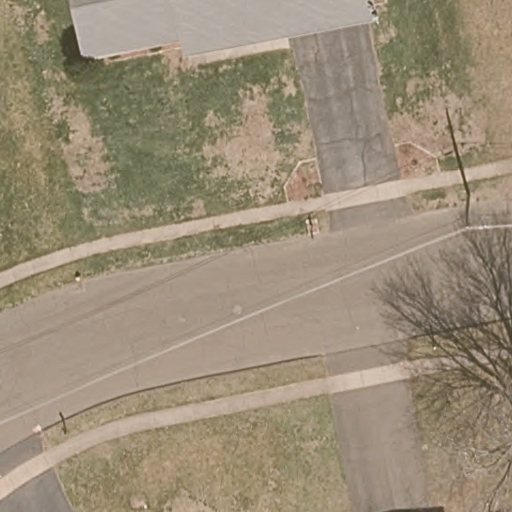DT: (463, 192, 473, 228)
